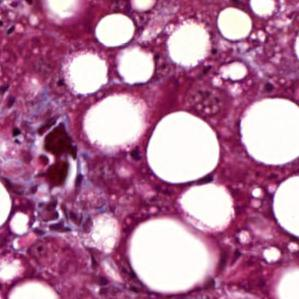steatosis: (146, 111, 222, 185), (96, 12, 135, 46), (216, 8, 251, 41)
